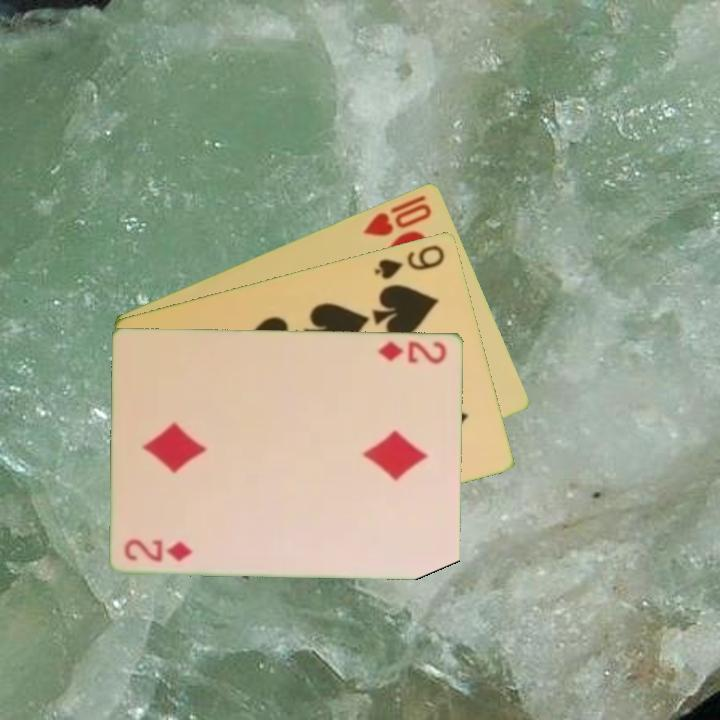10h: (360, 191, 435, 239)
2d: (375, 336, 450, 366), (121, 536, 196, 565)
9s: (371, 241, 448, 282)
